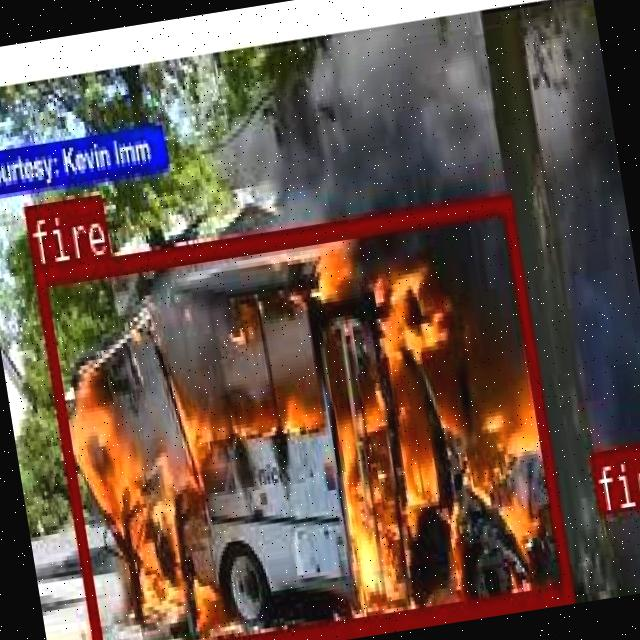fire: (31, 191, 570, 640), (589, 448, 624, 511)
